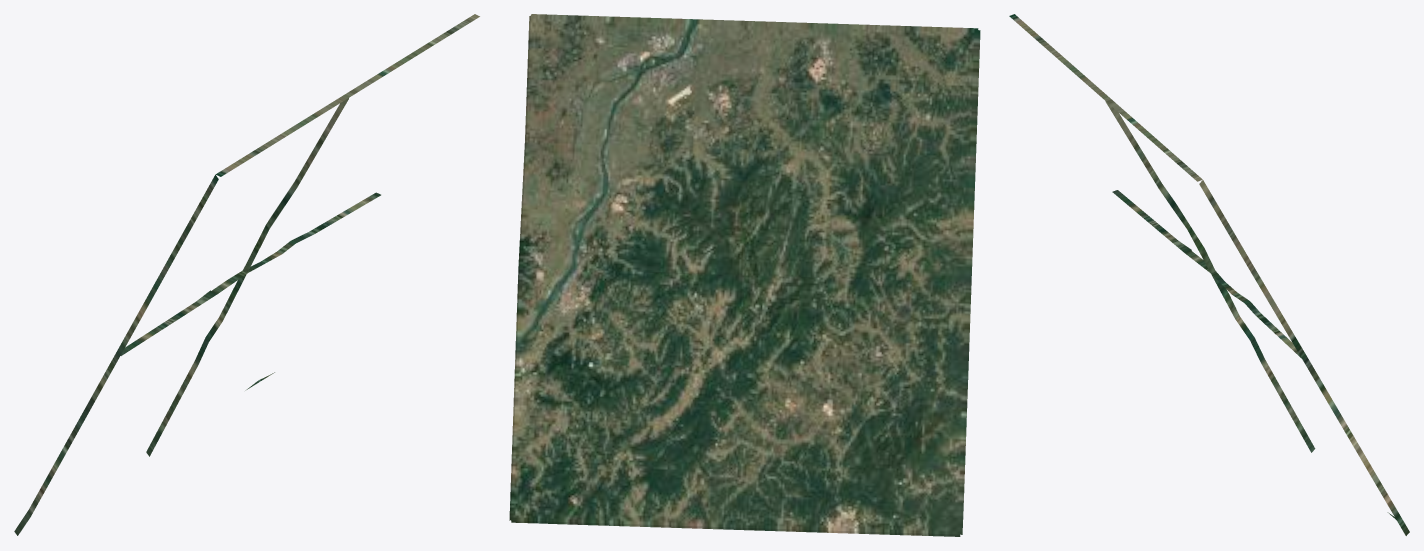
3 renders of one model, left to right at view 1: azimuth 30°, elevation 25°; view 2: azimuth 150°, elevation 25°; view 3: azimuth 270°, elevation 25°, orthographic. The views are drawn at different scales.
Size of the model in its own units: 79120 by 69969 by 63962.
Materials: 1 (1 with a texture image).
